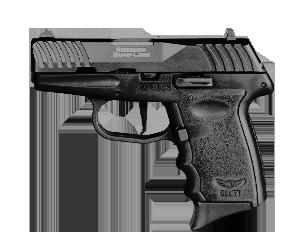handgun: (26, 16, 278, 231)
